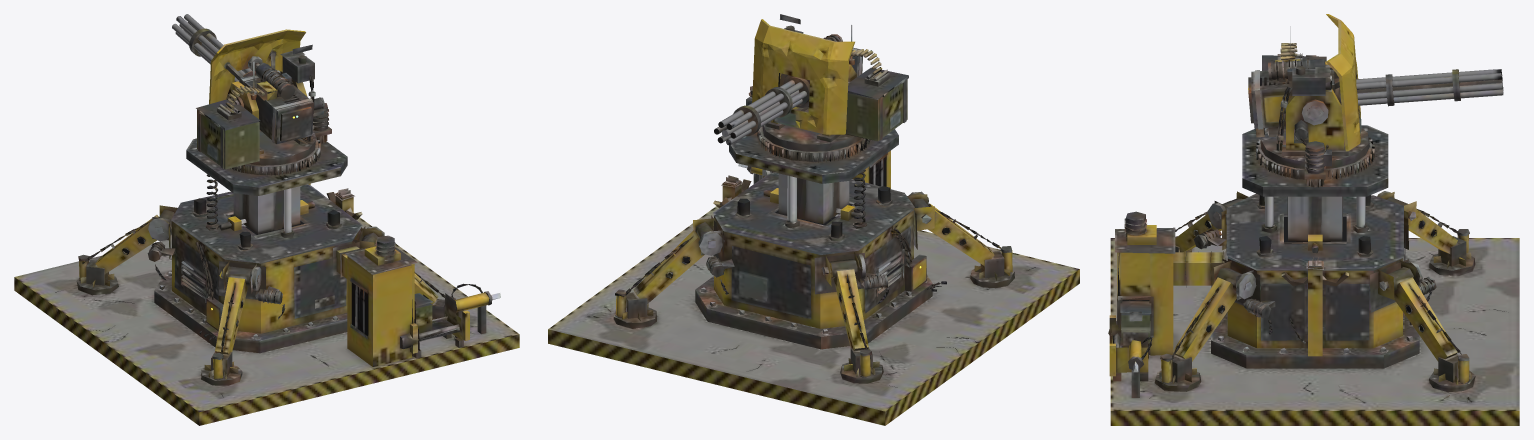
File: torre_metralhadora.glb
3 renders of one model, left to right at view 1: azimuth 30°, elevation 25°; view 2: azimuth 150°, elevation 25°; view 3: azimuth 270°, elevation 25°, orthographic. The views are drawn at different scales.
Parts seen in each view (by area): view 1: torre_metralhadora_base, torre_metralhadora_giro, torre_metralhadora_canhao, torre_metralhadora_tambor; view 2: torre_metralhadora_base, torre_metralhadora_canhao, torre_metralhadora_giro, torre_metralhadora_tambor; view 3: torre_metralhadora_base, torre_metralhadora_giro, torre_metralhadora_canhao, torre_metralhadora_tambor.
Boxes of the visible parts, x1,y1,x2,y2 form: torre_metralhadora_base: (14, 137, 519, 425); torre_metralhadora_giro: (196, 44, 331, 169); torre_metralhadora_canhao: (209, 29, 313, 144); torre_metralhadora_tambor: (172, 14, 256, 82); torre_metralhadora_base: (548, 126, 1079, 425); torre_metralhadora_canhao: (752, 19, 862, 134); torre_metralhadora_giro: (746, 14, 908, 151); torre_metralhadora_tambor: (714, 75, 809, 145); torre_metralhadora_base: (1108, 125, 1519, 425); torre_metralhadora_giro: (1260, 26, 1369, 187); torre_metralhadora_canhao: (1248, 14, 1361, 151); torre_metralhadora_tambor: (1334, 69, 1503, 106).
Bounding box in the file's own units: 1.96 × 1.64 × 1.97.
4 materials, 1 textured.
